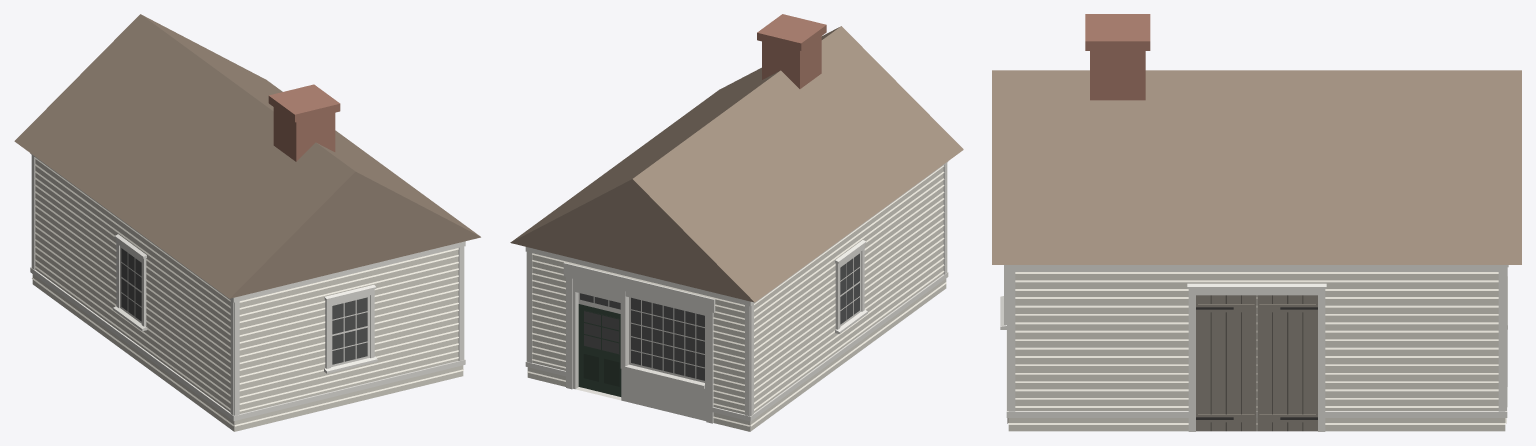
Rendered from recon_1835_core_c1_024__inferred_1835.glb.
The picture shows the model from 3 angles, left to right: view 1: azimuth 30°, elevation 25°; view 2: azimuth 150°, elevation 25°; view 3: azimuth 270°, elevation 25°; orthographic projection. The views are drawn at different scales.
Visible parts, largest first — view 1: recon_1835_core_c1_024__inferred_1835; view 2: recon_1835_core_c1_024__inferred_1835; view 3: recon_1835_core_c1_024__inferred_1835.
Boxes of the visible parts, x1=… form: recon_1835_core_c1_024__inferred_1835: x1=14, y1=14, x2=480, y2=431; recon_1835_core_c1_024__inferred_1835: x1=510, y1=14, x2=963, y2=431; recon_1835_core_c1_024__inferred_1835: x1=992, y1=14, x2=1521, y2=431.
Size of the model in its own units: 5.43 by 5.59 by 8.02.
